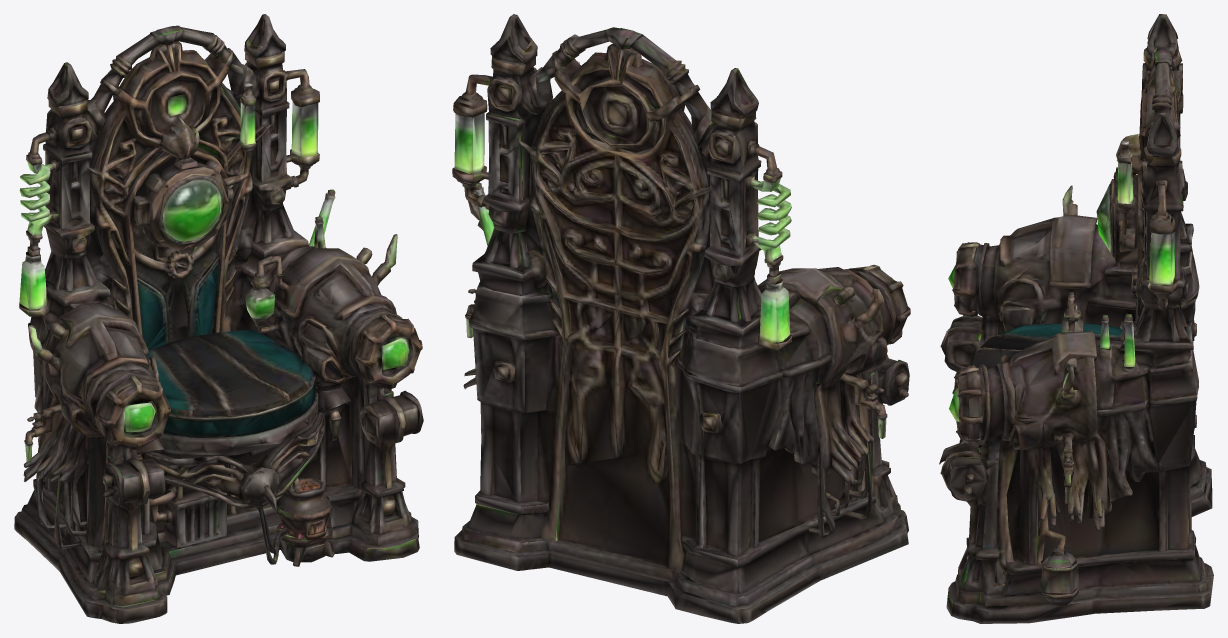
The model's file is alchemistThrone.glb.
The picture shows the model from 3 angles, left to right: view 1: azimuth 30°, elevation 25°; view 2: azimuth 150°, elevation 25°; view 3: azimuth 270°, elevation 25°; orthographic projection. The views are drawn at different scales.
Size of the model in its own units: 1.54 by 1.9 by 0.9637.
1 material, 1 textured.
